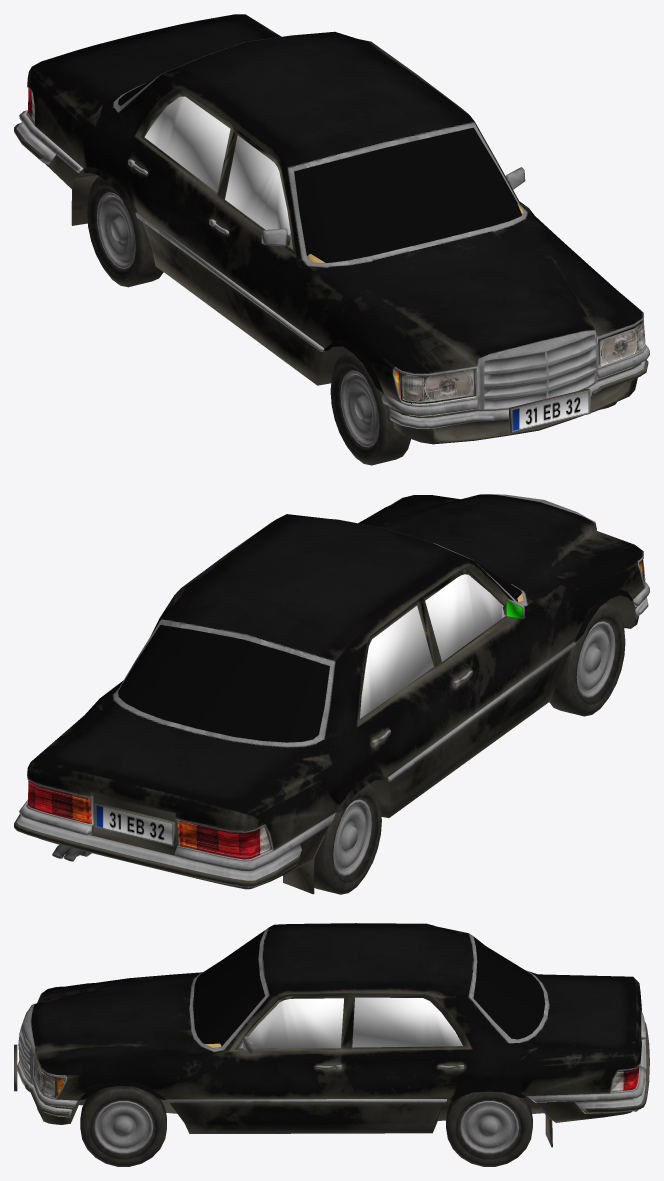
Rendered from car.fbx.
3 views of the same model, one above another, from view 1: azimuth 30°, elevation 25°; view 2: azimuth 150°, elevation 25°; view 3: azimuth 270°, elevation 25° (orthographic). The views are drawn at different scales.
Visible parts, largest first — view 1: car body, glass, wheel2, wheel4; view 2: car body, glass, wheel2, wheel4; view 3: car body, glass, wheel, wheel3.
Part boxes in pixels (x1,y1,x2,y2): car body: [14, 14, 649, 444]; glass: [144, 96, 290, 235]; wheel2: [330, 352, 410, 465]; wheel4: [87, 176, 163, 287]; car body: [14, 494, 649, 894]; glass: [360, 574, 501, 718]; wheel2: [549, 603, 625, 716]; wheel4: [314, 784, 381, 894]; car body: [14, 923, 649, 1147]; glass: [248, 997, 462, 1048]; wheel: [80, 1086, 166, 1166]; wheel3: [446, 1091, 532, 1166].
Size of the model in its own units: 119 by 99.7 by 334.
7 materials, 5 textured.
